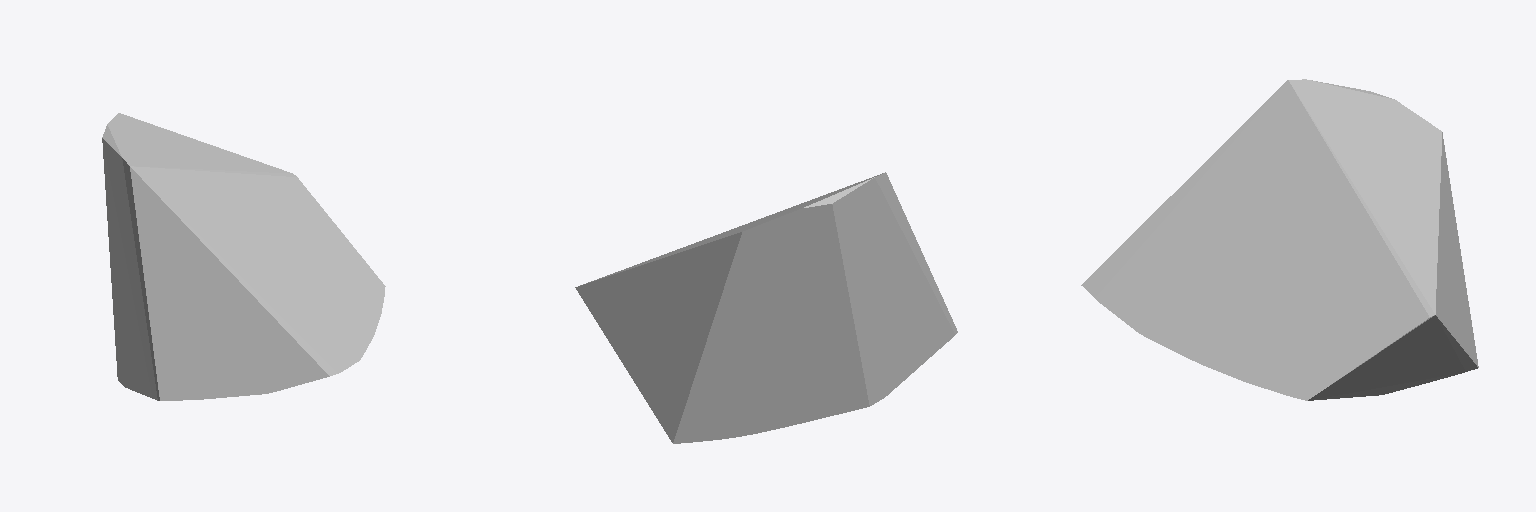
The model's file is Sphere_Cell_Fracture1.obj.
3 renders of one model, left to right at view 1: azimuth 30°, elevation 25°; view 2: azimuth 150°, elevation 25°; view 3: azimuth 270°, elevation 25°, orthographic.
Size of the model in its own units: 0.3805 by 0.2994 by 0.4577.